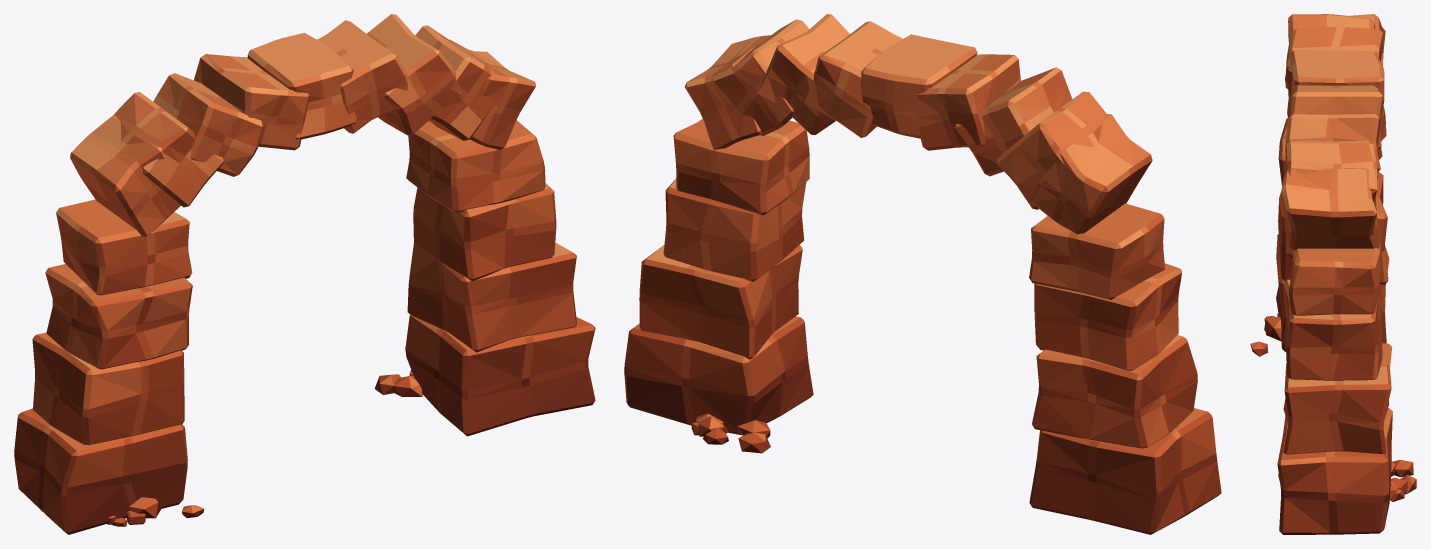
The model's file is SM_NATURAL_ARCH_01.fbx.
The picture shows the model from 3 angles, left to right: view 1: azimuth 30°, elevation 25°; view 2: azimuth 150°, elevation 25°; view 3: azimuth 270°, elevation 25°; orthographic projection. The views are drawn at different scales.
Parts seen in each view (by area): view 1: NATURAL_ARCH_01; view 2: NATURAL_ARCH_01; view 3: NATURAL_ARCH_01.
Part boxes in pixels (x1,y1,x2,y2): NATURAL_ARCH_01: (14, 14, 595, 534); NATURAL_ARCH_01: (624, 14, 1221, 534); NATURAL_ARCH_01: (1250, 14, 1416, 534).
Bounding box in the file's own units: 9.6 × 2.85 × 6.78.
